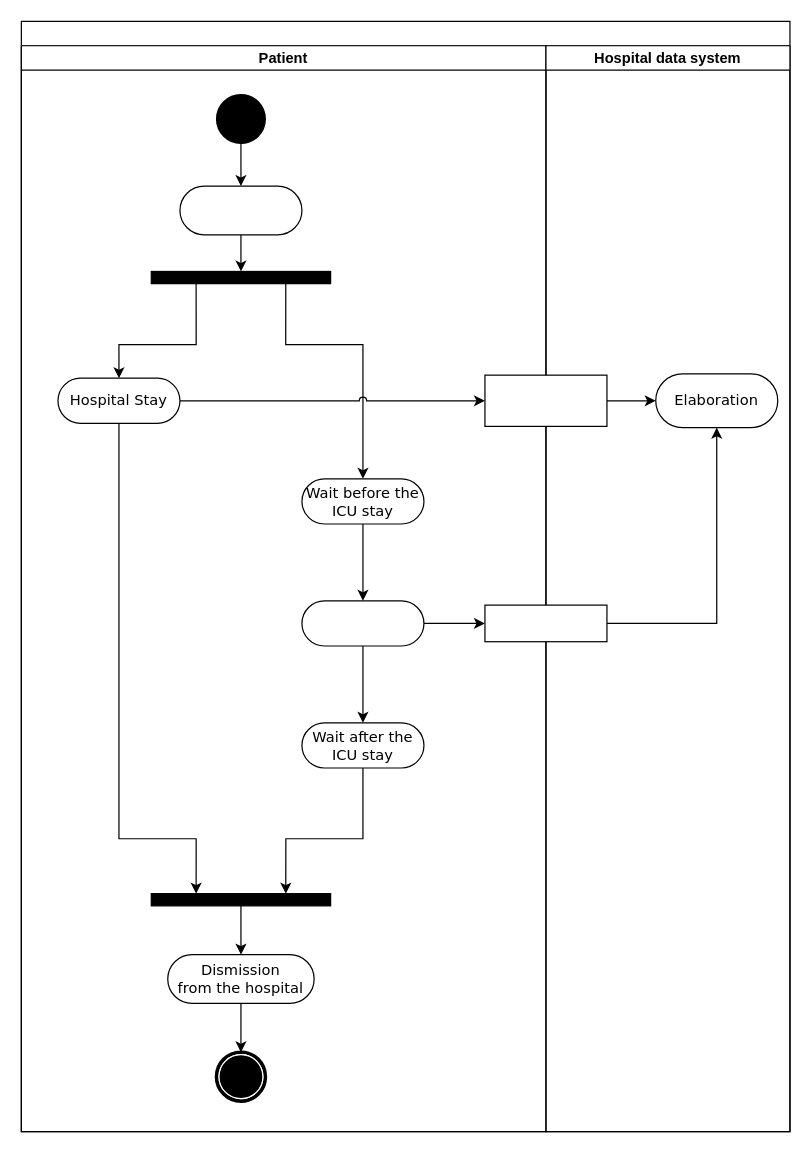
The diagram is 811 pixels wide and 1153 high, and some of its shapes have lost their labels. The shapes that lost their labels are listed below. From the top down, each one's centre as x and y in pixels, then its label:
At pixel 240 210: "Admission to the hospital".
At pixel 545 400: "Hospital stay events".
At pixel 362 623: "ICU stay".
At pixel 545 623: "ICU stay Events".
